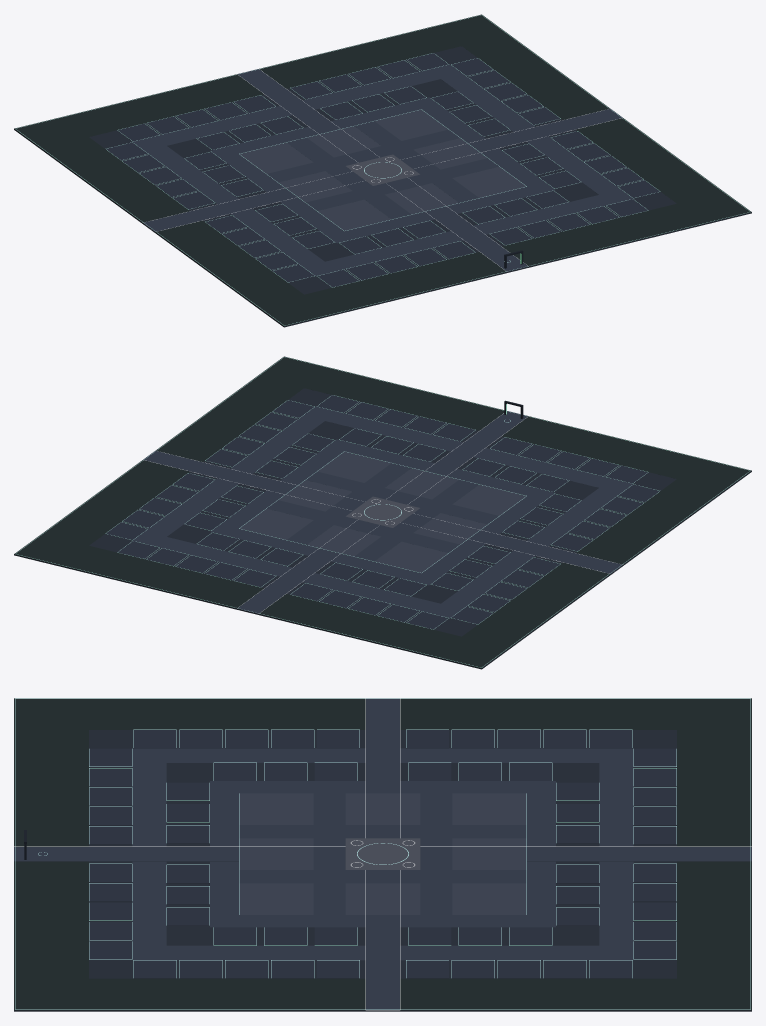
The picture shows the model from 3 angles, top to bottom: view 1: azimuth 30°, elevation 25°; view 2: azimuth 150°, elevation 25°; view 3: azimuth 270°, elevation 25°; orthographic projection. The views are drawn at different scales.
Visible parts, largest first — view 1: district_agora.lod1; view 2: district_agora.lod1; view 3: district_agora.lod1.
Part boxes in pixels (x1=…): district_agora.lod1: x1=14, y1=14, x2=751, y2=327; district_agora.lod1: x1=14, y1=356, x2=751, y2=669; district_agora.lod1: x1=14, y1=698, x2=751, y2=1011.
Size of the model in its own units: 256 by 7.62 by 256.
